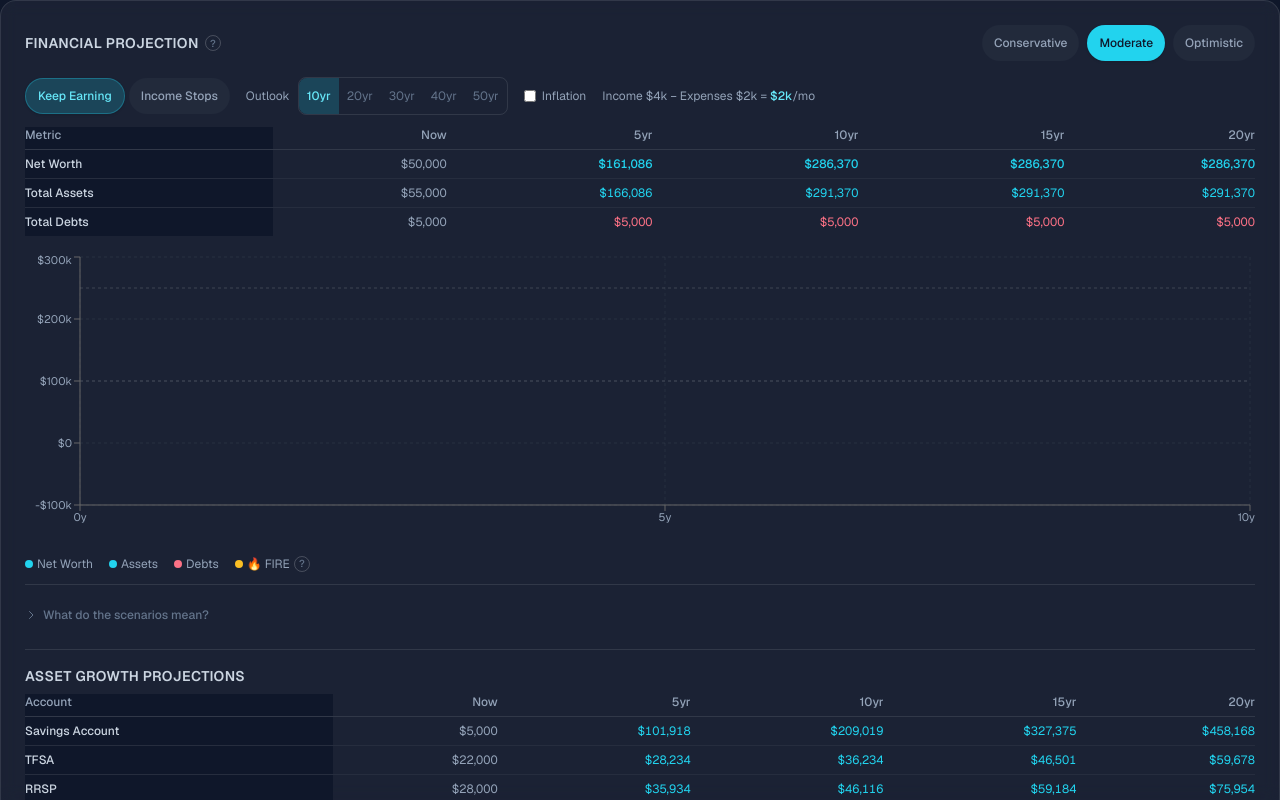
Test case: Unified ProjectionChart › shows starting balances in Income Stops mode
Click the button with test id "mode-income-stops".
click(179, 96)  # box [129,78,230,114]
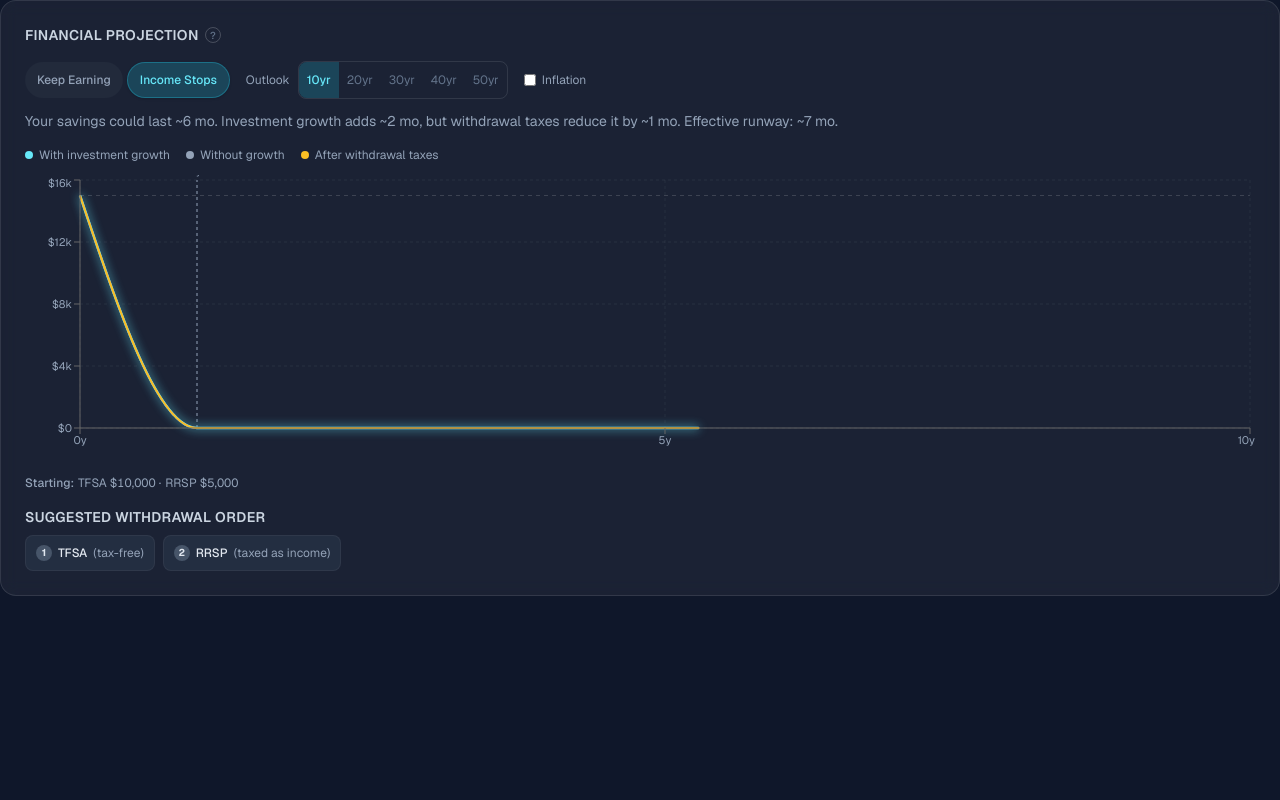
Expected: the element with test id "burndown-starting-balances" shows "Starting:", [25,475,74,491]
Expected: the element with test id "burndown-starting-balances" shows "TFSA", [78,475,107,491]
Expected: the element with test id "burndown-starting-balances" shows "RRSP", [165,475,197,491]
